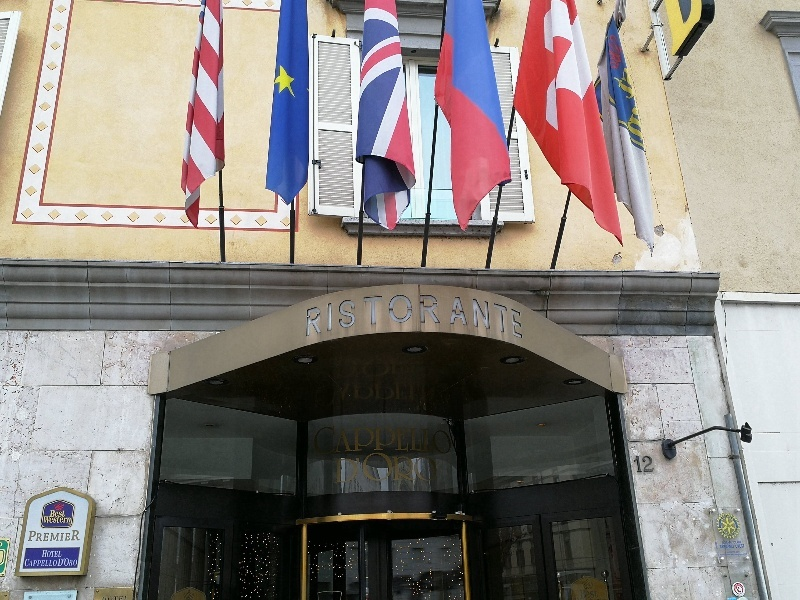text: (321, 292, 336, 342), (337, 292, 352, 342), (353, 292, 368, 342), (369, 292, 384, 342), (385, 292, 400, 342), (401, 292, 416, 342), (417, 292, 432, 342), (433, 292, 448, 342), (449, 292, 464, 342), (465, 292, 480, 342), (481, 292, 496, 342), (497, 292, 512, 342), (306, 292, 320, 342), (513, 292, 526, 342), (369, 451, 384, 484), (385, 451, 400, 484), (401, 451, 416, 484), (417, 451, 432, 484), (321, 426, 336, 457), (337, 426, 352, 457), (353, 426, 368, 457), (369, 426, 384, 457), (385, 426, 400, 457), (401, 426, 416, 457), (417, 426, 432, 457), (433, 426, 448, 457), (337, 456, 352, 487), (337, 355, 352, 380), (353, 355, 368, 380), (369, 355, 384, 380), (385, 355, 400, 380), (401, 355, 416, 380), (337, 381, 352, 405), (353, 381, 368, 405), (369, 381, 384, 405), (385, 381, 400, 405), (401, 381, 416, 405), (417, 355, 427, 380), (353, 456, 361, 487), (417, 381, 427, 405), (641, 456, 655, 473), (433, 451, 439, 484), (65, 530, 81, 542), (314, 426, 320, 457), (33, 530, 48, 542), (49, 530, 64, 542), (363, 451, 368, 484), (33, 558, 48, 567), (49, 558, 64, 567), (580, 589, 592, 600), (449, 426, 453, 457), (49, 516, 64, 524), (633, 456, 640, 473), (51, 509, 64, 518), (65, 558, 78, 567), (49, 550, 63, 558), (721, 529, 736, 536), (333, 381, 336, 405), (593, 589, 599, 600), (65, 516, 72, 524), (113, 596, 127, 600), (722, 541, 736, 545), (721, 545, 735, 549), (26, 558, 32, 567), (334, 355, 336, 380), (43, 550, 48, 558), (102, 596, 112, 600), (737, 544, 745, 549), (723, 516, 736, 519), (44, 516, 48, 524), (30, 530, 32, 542), (727, 551, 736, 553), (737, 541, 742, 544), (737, 529, 739, 536), (65, 509, 66, 518), (734, 541, 736, 544), (737, 551, 740, 553), (735, 544, 736, 549), (719, 545, 720, 549)
